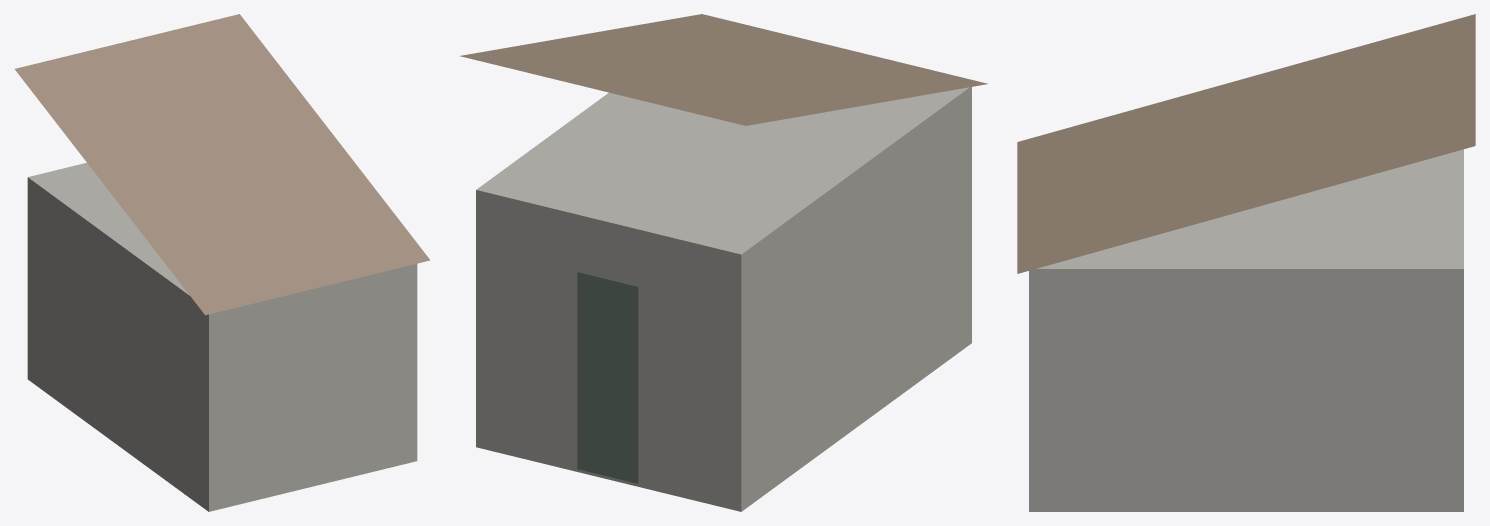
Rendered from recon_1835_south_a4_048__recommended_1835.glb.
3 views of the same model, side by side, from view 1: azimuth 30°, elevation 25°; view 2: azimuth 150°, elevation 25°; view 3: azimuth 270°, elevation 25° (orthographic). The views are drawn at different scales.
Parts seen in each view (by area): view 1: recon_1835_south_a4_048__recommended_1835; view 2: recon_1835_south_a4_048__recommended_1835; view 3: recon_1835_south_a4_048__recommended_1835.
Part boxes in pixels (x1,y1,x2,y2): recon_1835_south_a4_048__recommended_1835: [14, 14, 429, 511]; recon_1835_south_a4_048__recommended_1835: [460, 14, 987, 511]; recon_1835_south_a4_048__recommended_1835: [1017, 14, 1475, 511].
Size of the model in its own units: 3.21 by 4.2 by 4.7.
